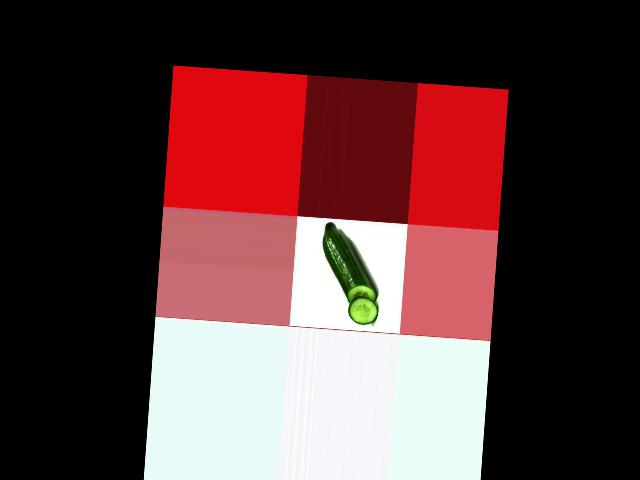cucumber: (318, 222, 382, 306)
